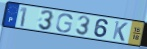1: (19, 7, 29, 29)
3: (35, 10, 56, 32), (75, 15, 92, 37)
6: (94, 18, 109, 39)
G: (55, 13, 74, 33)
K: (111, 20, 129, 43)
